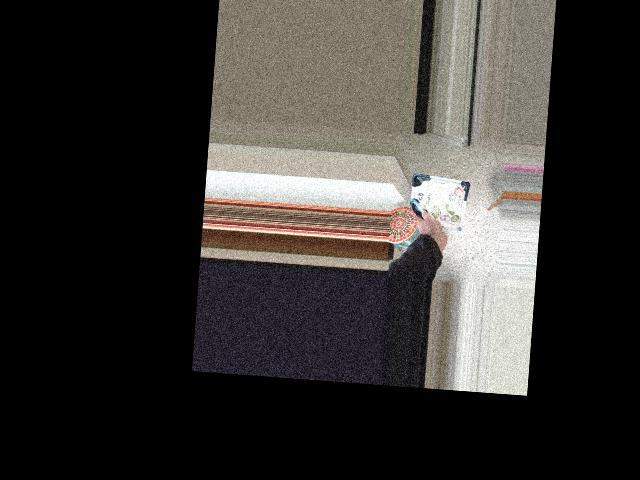cheese: (407, 185, 469, 248)
